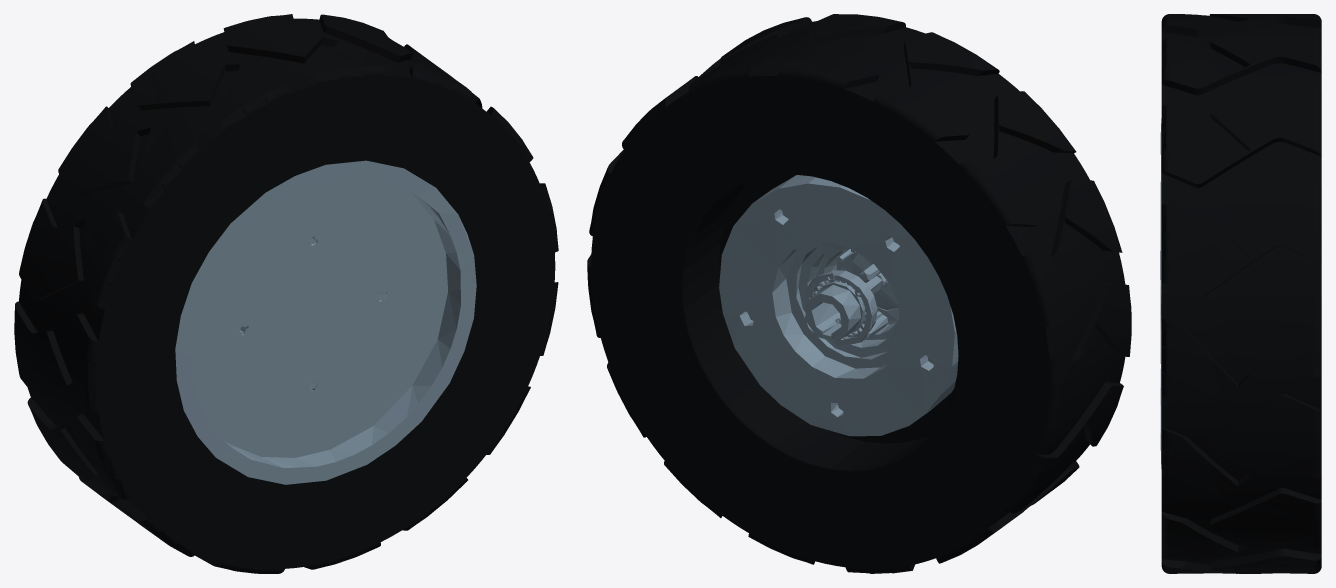
File: wheel_FR.dae
3 views of the same model, side by side, from view 1: azimuth 30°, elevation 25°; view 2: azimuth 150°, elevation 25°; view 3: azimuth 270°, elevation 25° (orthographic). The views are drawn at different scales.
Parts seen in each view (by area): view 1: node; view 2: node; view 3: node.
Boxes of the visible parts, box(x1,y1,x2,y2) form: node: box(14, 14, 558, 573); node: box(587, 14, 1131, 573); node: box(1160, 14, 1321, 573).
Size of the model in its own units: 0.35 by 0.1009 by 0.35.
